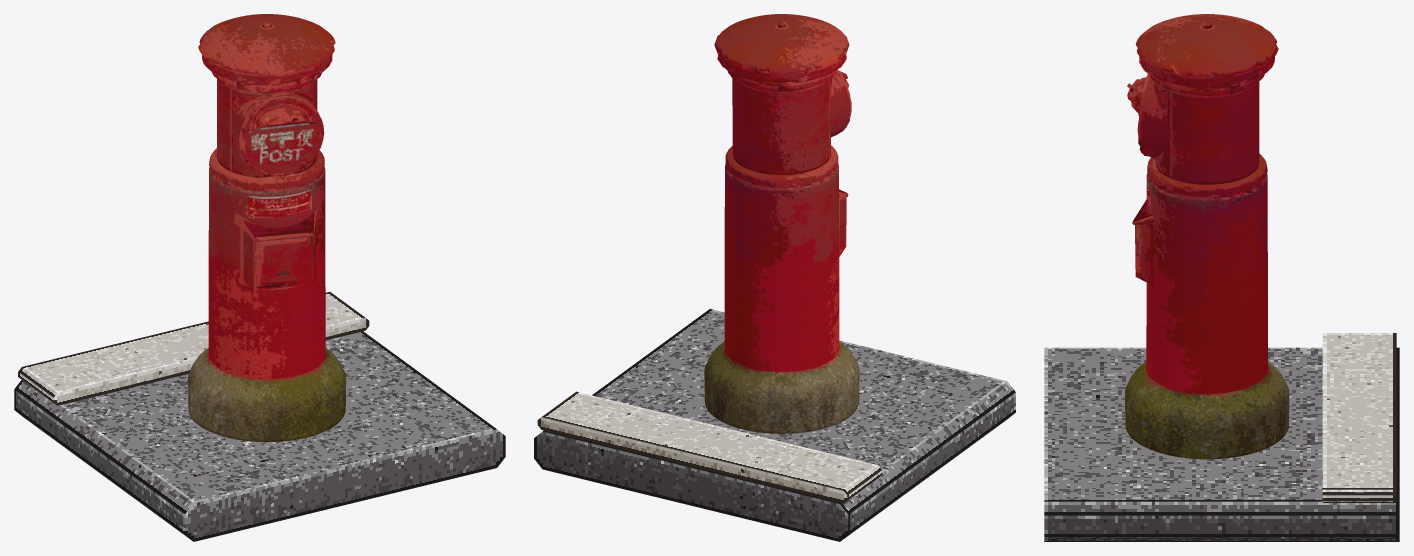
The model's file is posuto.glb.
3 renders of one model, left to right at view 1: azimuth 30°, elevation 25°; view 2: azimuth 150°, elevation 25°; view 3: azimuth 270°, elevation 25°, orthographic. The views are drawn at different scales.
Parts seen in each view (by area): view 1: model_m, base, kerb; view 2: model_m, base, kerb; view 3: model_m, base, kerb.
Boxes of the visible parts, box(x1,y1,x2,y2) form: model_m: box(188, 14, 346, 442); base: box(14, 331, 505, 541); kerb: box(18, 292, 369, 405); model_m: box(704, 14, 859, 433); base: box(534, 309, 1015, 541); kerb: box(537, 391, 882, 503); model_m: box(1125, 14, 1289, 459); base: box(1044, 347, 1399, 541); kerb: box(1322, 333, 1396, 502).
Bounding box in the file's own units: 26 × 33 × 24.
2 materials, 2 textured.
